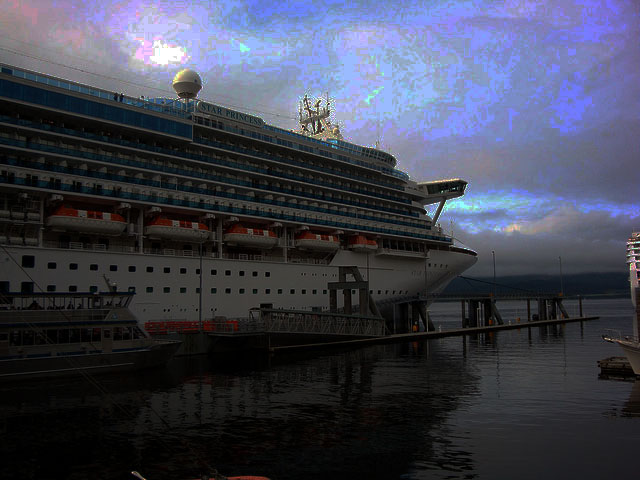cruise_ship: (4, 53, 478, 312)
